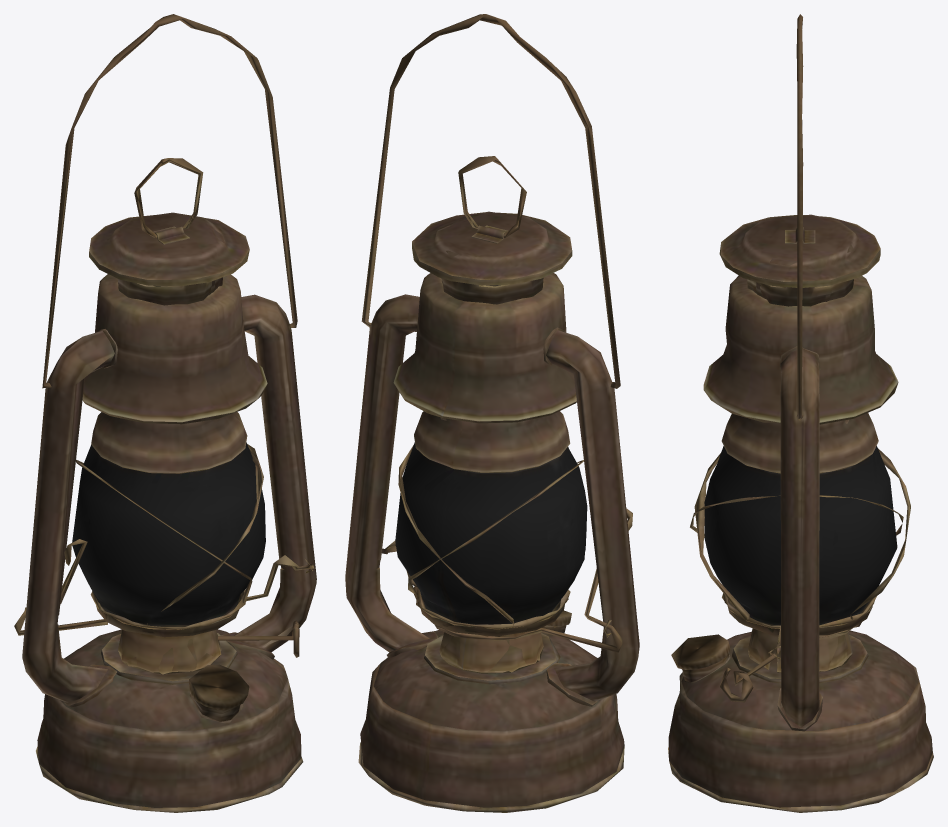
Rendered from lantern_01.glb.
The picture shows the model from 3 angles, left to right: view 1: azimuth 30°, elevation 25°; view 2: azimuth 150°, elevation 25°; view 3: azimuth 270°, elevation 25°; orthographic projection.
Visible parts, largest first — view 1: Lantern_01, Lantern_01_glass; view 2: Lantern_01, Lantern_01_glass; view 3: Lantern_01, Lantern_01_glass.
Boxes of the visible parts, bbox=[...] form: Lantern_01: bbox=[14, 14, 316, 812]; Lantern_01_glass: bbox=[72, 442, 265, 625]; Lantern_01: bbox=[345, 14, 639, 812]; Lantern_01_glass: bbox=[395, 442, 587, 624]; Lantern_01: bbox=[668, 14, 933, 812]; Lantern_01_glass: bbox=[704, 446, 897, 625].
Bounding box in the file's own units: 0.1219 × 0.2938 × 0.0958.
2 materials, 2 textured.
